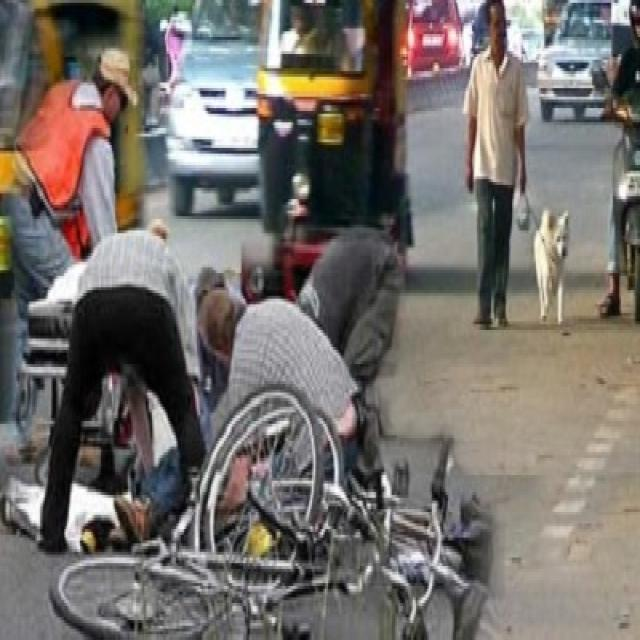accident: (52, 384, 478, 639)
autorickshaw: (258, 0, 405, 241)
